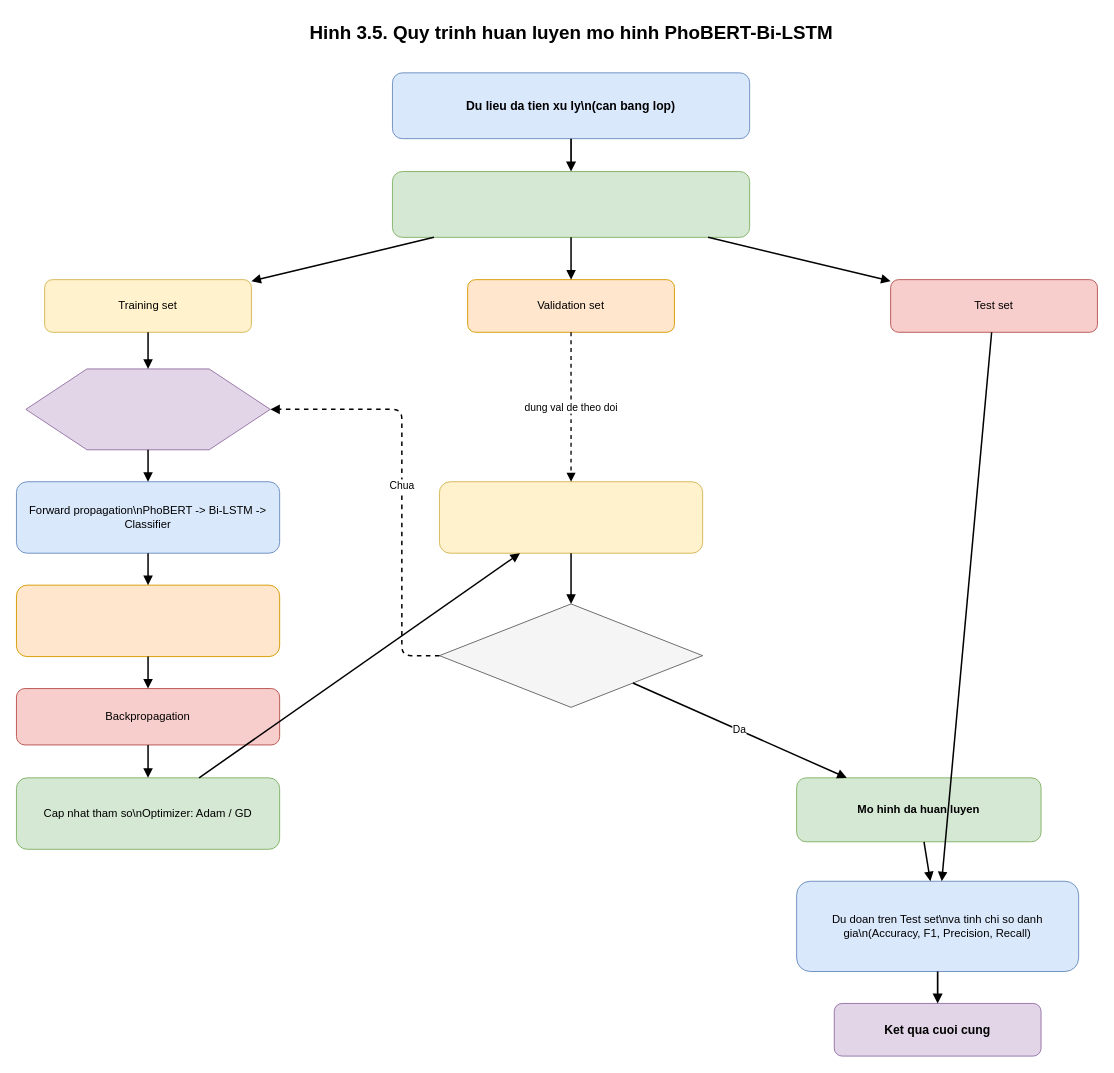
Some shapes in this 1114 by 1073 pixel diagram are drawn without their labels. The shapes that lost their labels are listed below. From the top down, each one's box as (x1, y1, x2, y2) in pixels, then its label:
(392, 171, 750, 237): Chia du lieu\nTrain / Validation / Test
(25, 368, 270, 450): Lap theo Epoch\n(Forward + Backward)
(439, 481, 703, 553): Danh gia tren Validation\n(sau moi epoch)
(16, 584, 280, 657): Tinh Loss\nCategorical Cross-Entropy
(439, 603, 703, 707): Hoi tu / dung som?
